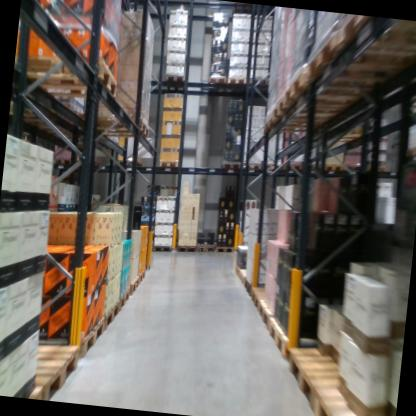pallet: (12, 44, 125, 114), (305, 22, 416, 93), (281, 338, 366, 416), (284, 64, 375, 114), (271, 85, 373, 129), (18, 335, 86, 396), (332, 16, 416, 60), (314, 380, 397, 416), (265, 316, 322, 366), (81, 111, 152, 140), (258, 104, 309, 142), (76, 314, 105, 363), (254, 298, 281, 338), (246, 282, 277, 313), (100, 297, 120, 332), (161, 69, 187, 93), (241, 274, 263, 301), (281, 156, 310, 176), (174, 234, 198, 258), (12, 384, 48, 398), (206, 72, 228, 94), (115, 284, 131, 314), (194, 237, 216, 258), (362, 161, 390, 177), (214, 239, 237, 258), (151, 238, 175, 256), (225, 74, 247, 91), (322, 159, 345, 175), (240, 158, 264, 173), (400, 140, 416, 160), (246, 74, 267, 88), (159, 156, 178, 171), (220, 157, 241, 170), (128, 273, 139, 297), (136, 267, 145, 286), (241, 271, 248, 289)
